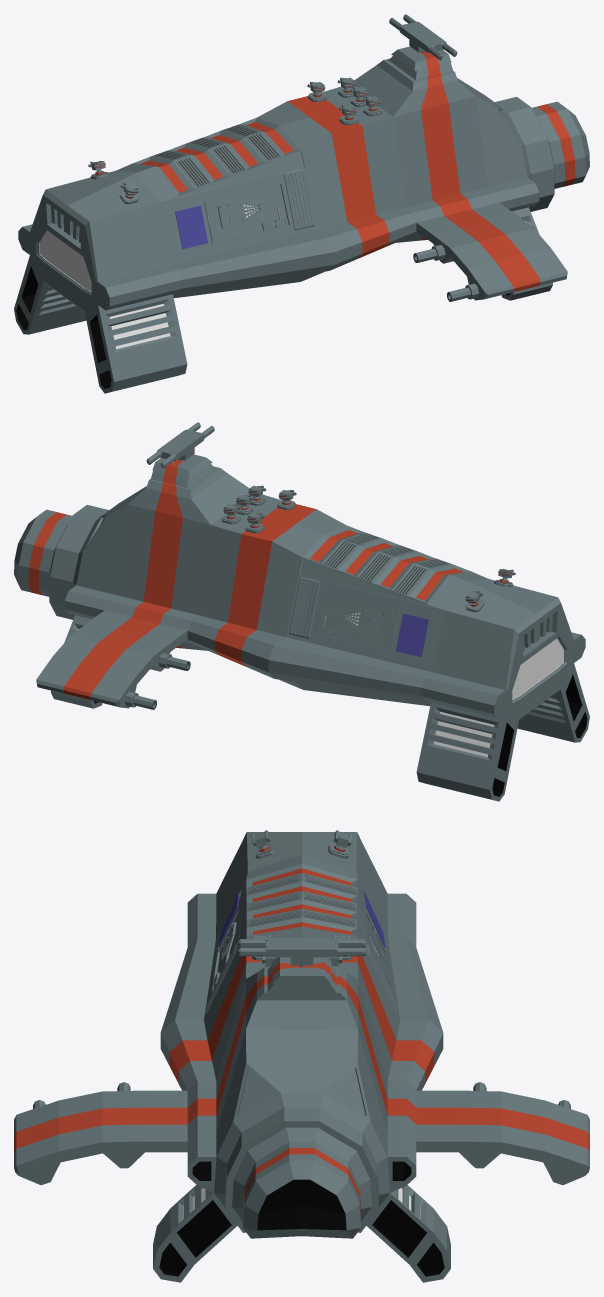
The model's file is Mother.fbx.
3 renders of one model, top to bottom at view 1: azimuth 30°, elevation 25°; view 2: azimuth 150°, elevation 25°; view 3: azimuth 270°, elevation 25°, orthographic. The views are drawn at different scales.
Parts seen in each view (by area): view 1: SpaceStation, Radar, SolarPanel; view 2: SpaceStation, Radar, SolarPanel; view 3: SpaceStation, Radar.
Part boxes in pixels (box(x1,y1,x2,y2)): SpaceStation: box(14, 46, 589, 393); Radar: box(389, 14, 457, 60); SolarPanel: box(175, 205, 207, 249); SpaceStation: box(14, 454, 589, 801); Radar: box(146, 422, 214, 468); SolarPanel: box(396, 613, 428, 657); SpaceStation: box(14, 830, 589, 1282); Radar: box(238, 938, 365, 966).
Bounding box in the file's own units: 211 × 95.85 × 165.
